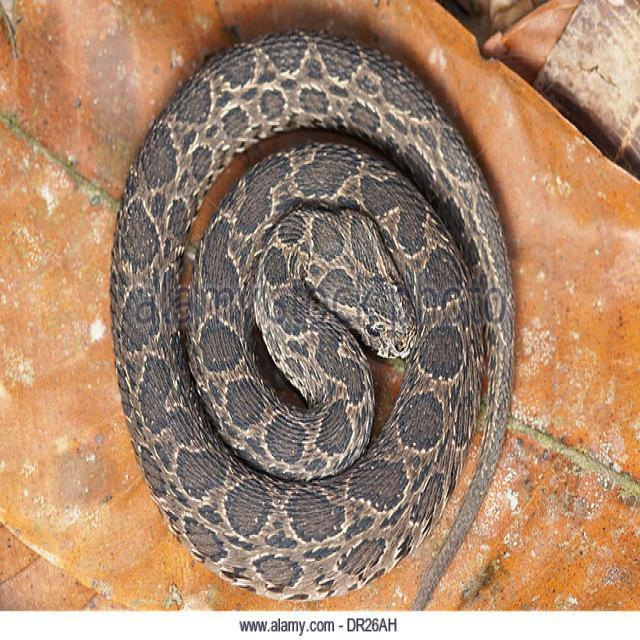Snake: (107, 26, 516, 604)
